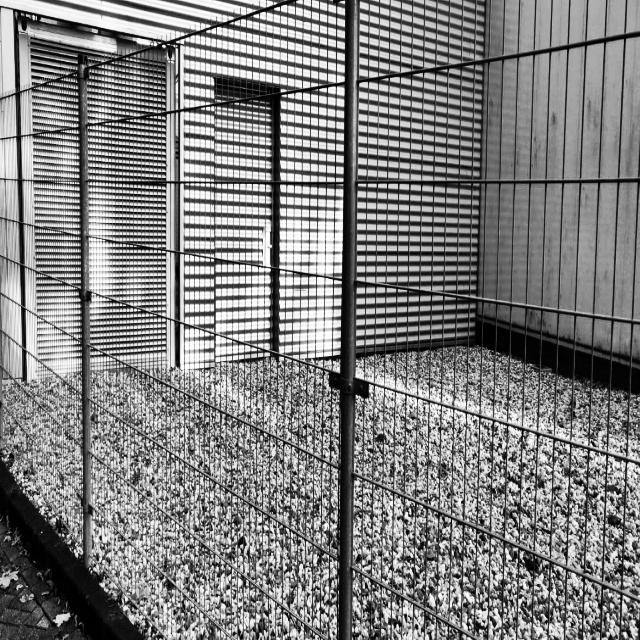fences: (356, 8, 638, 638), (118, 16, 348, 603), (2, 66, 104, 523)
